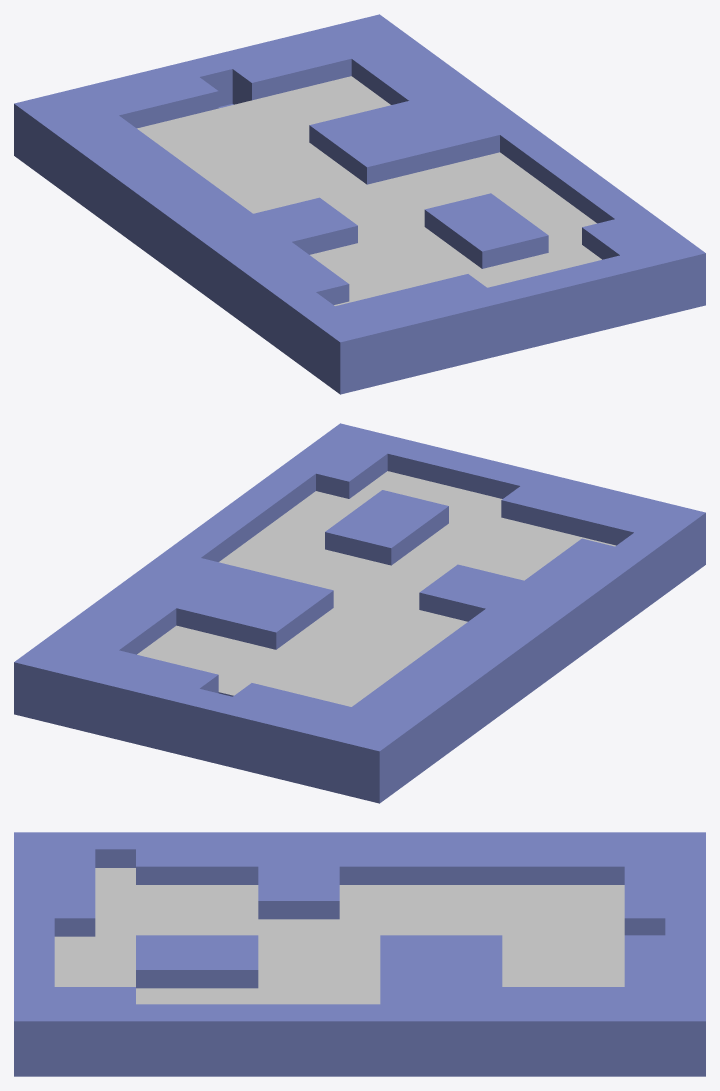
The model's file is 016_platform.fbx.
The picture shows the model from 3 angles, top to bottom: view 1: azimuth 30°, elevation 25°; view 2: azimuth 150°, elevation 25°; view 3: azimuth 270°, elevation 25°; orthographic projection. The views are drawn at different scales.
Parts seen in each view (by area): view 1: Grid; view 2: Grid; view 3: Grid.
Part boxes in pixels (x1=…): Grid: x1=14, y1=14, x2=705, y2=394; Grid: x1=14, y1=423, x2=705, y2=803; Grid: x1=14, y1=832, x2=705, y2=1076.
Bounding box in the file's own units: 1100 × 150 × 1700.
